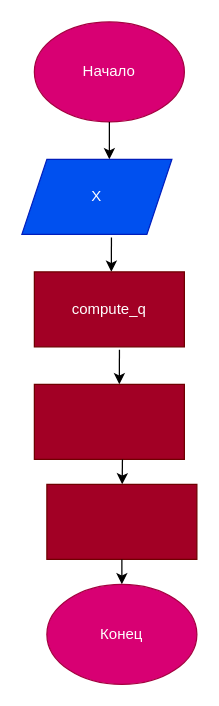
Image size: 219x706. Some labels were removed from this diagram. The shapes that lost their labels are listed below. From the top down, each one's box as (x1, y1, x2, y2) in pixels, then its label:
(33, 383, 184, 459): update_state
(46, 483, 197, 559): print_result
